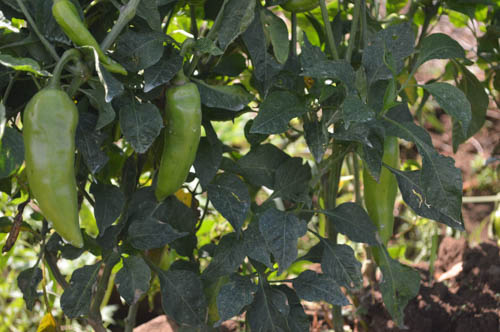ChiliPepper: (23, 91, 86, 247), (156, 86, 203, 202), (362, 134, 397, 239), (54, 4, 108, 60)
